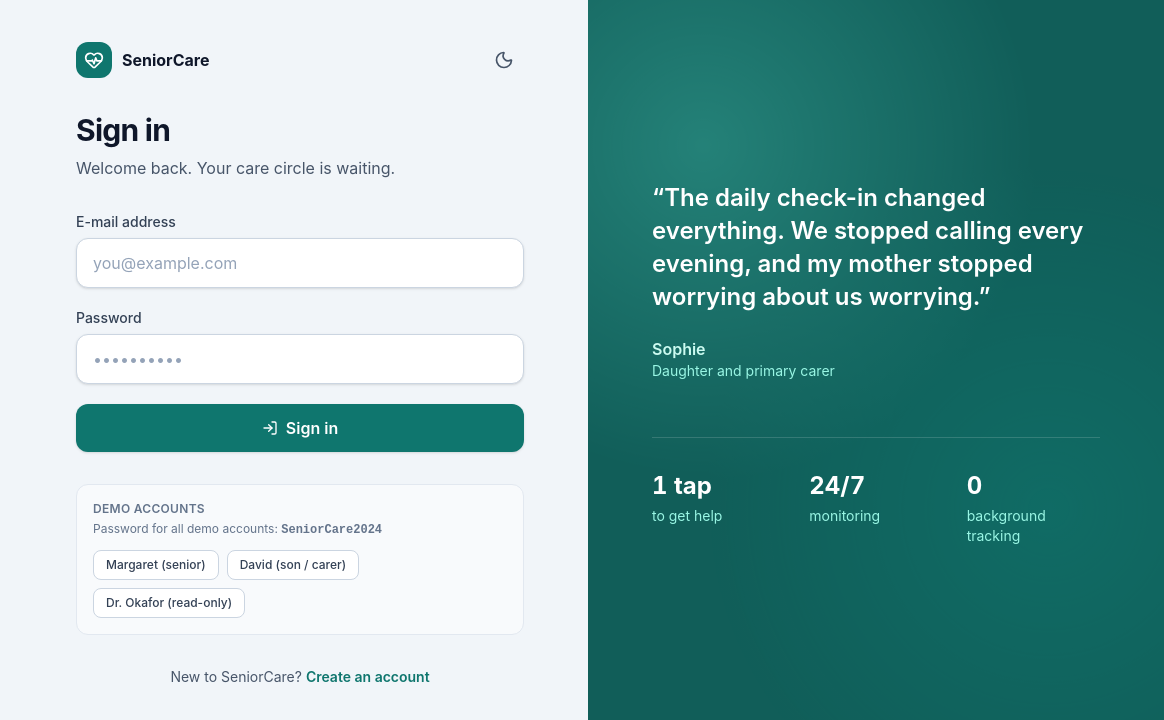
it: Login form › signs in, greets the user and navigates to the senior home
Type "margaret@example.com" into the field labelled "E-mail address". click: (300, 263)
box: [76, 238, 524, 288]
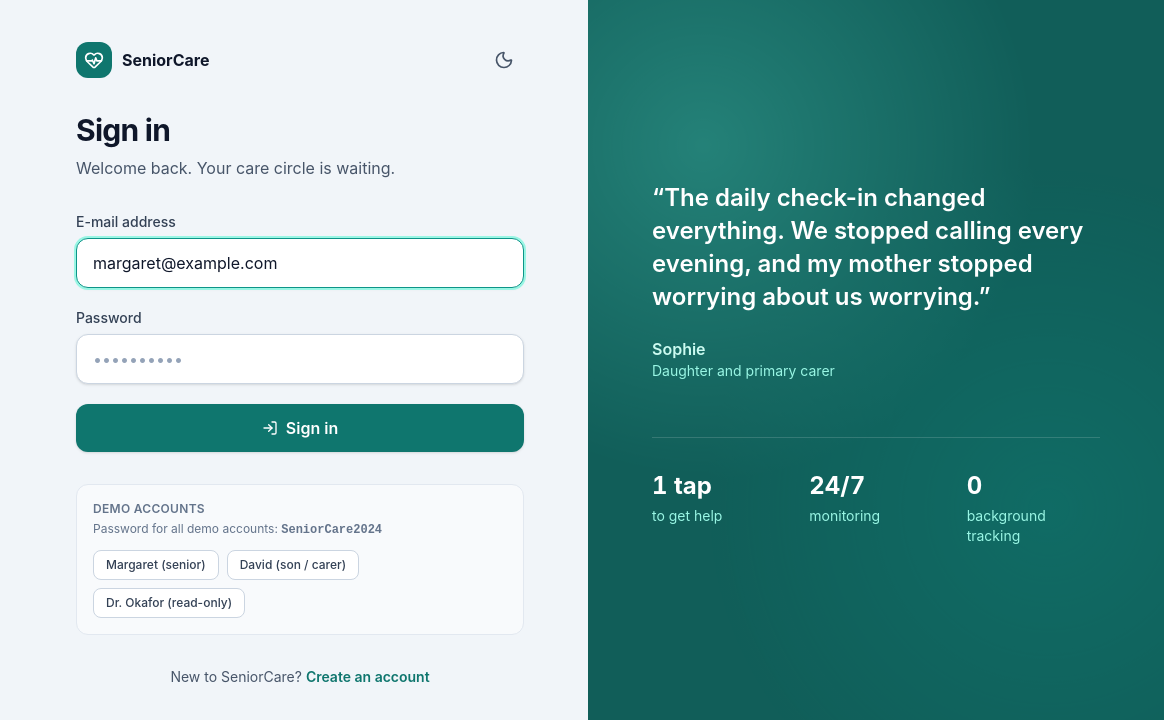
Type "SeniorCare2024" into the password field labelled "Password". click: (300, 359)
box: [76, 334, 524, 384]
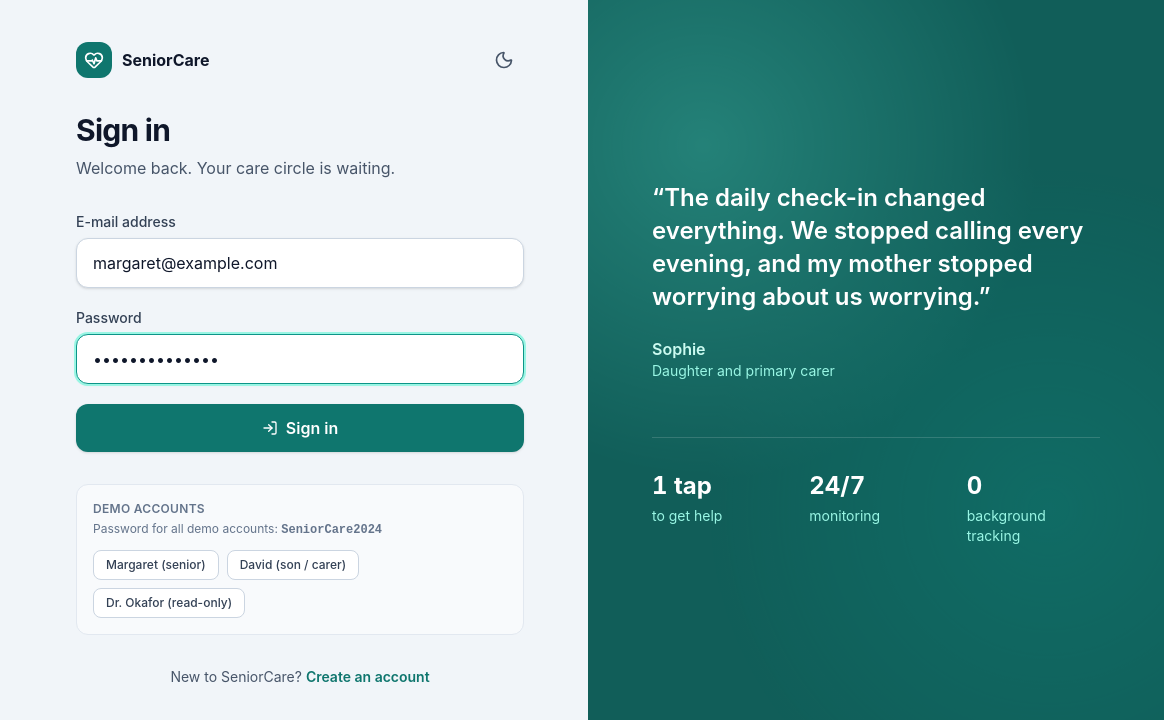
Click the button "Sign in". click: (300, 428)
box: [76, 404, 524, 452]
(page scrolled)
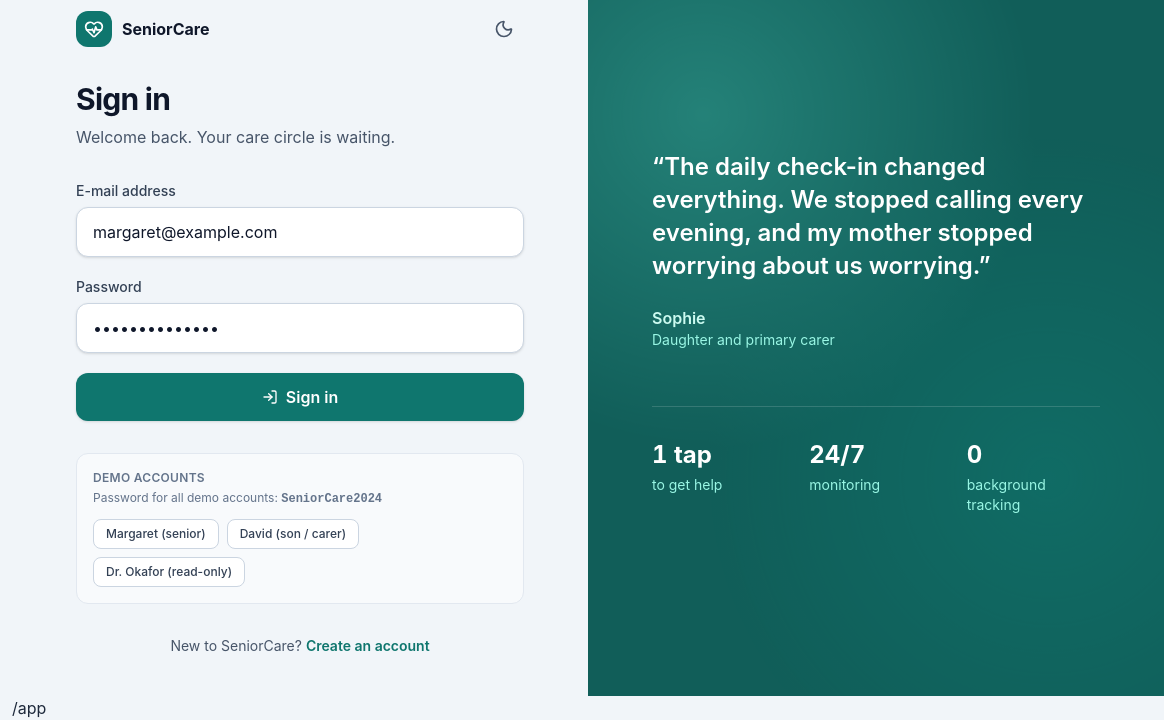
Expected: the text with test id "path" reads "/app", [12, 698, 46, 718]
